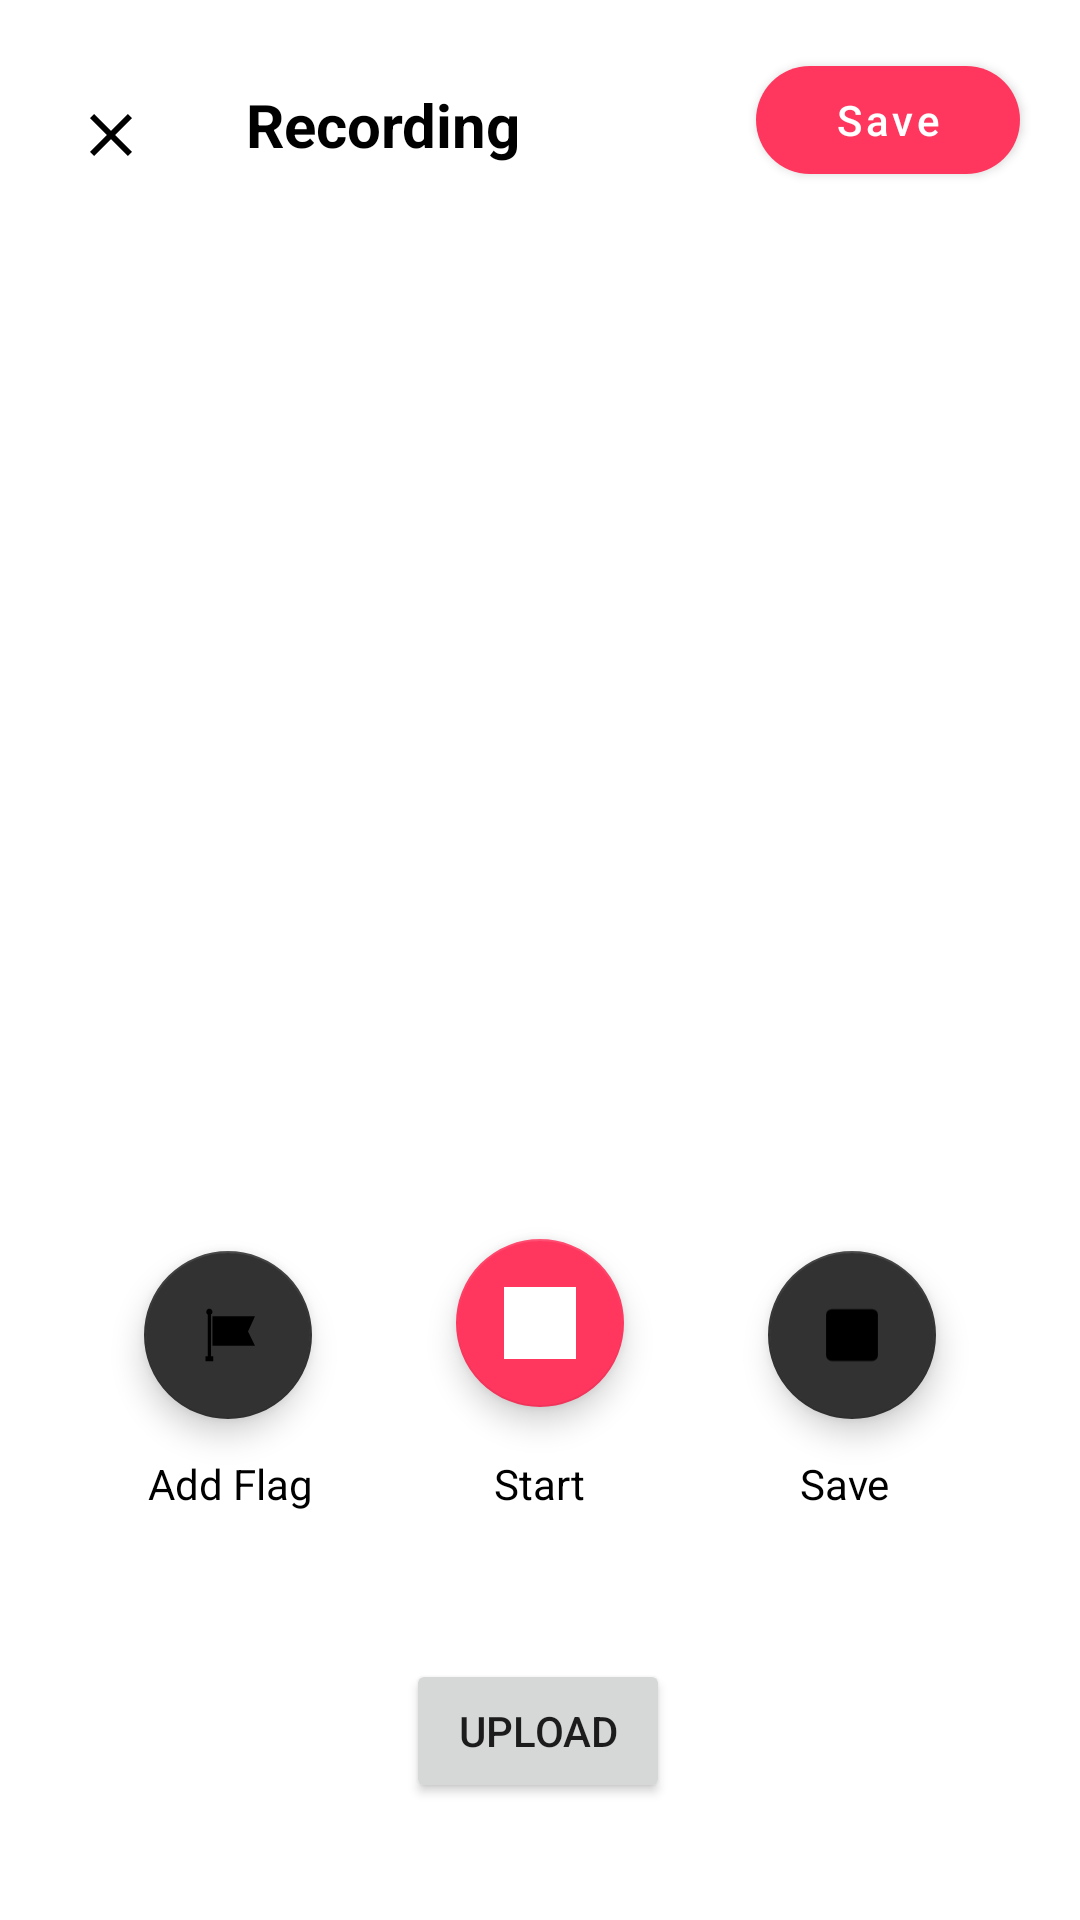

Screen size 1080*1920. Icon name, then its center in pixels as [x,y]:
close: [111,135]
